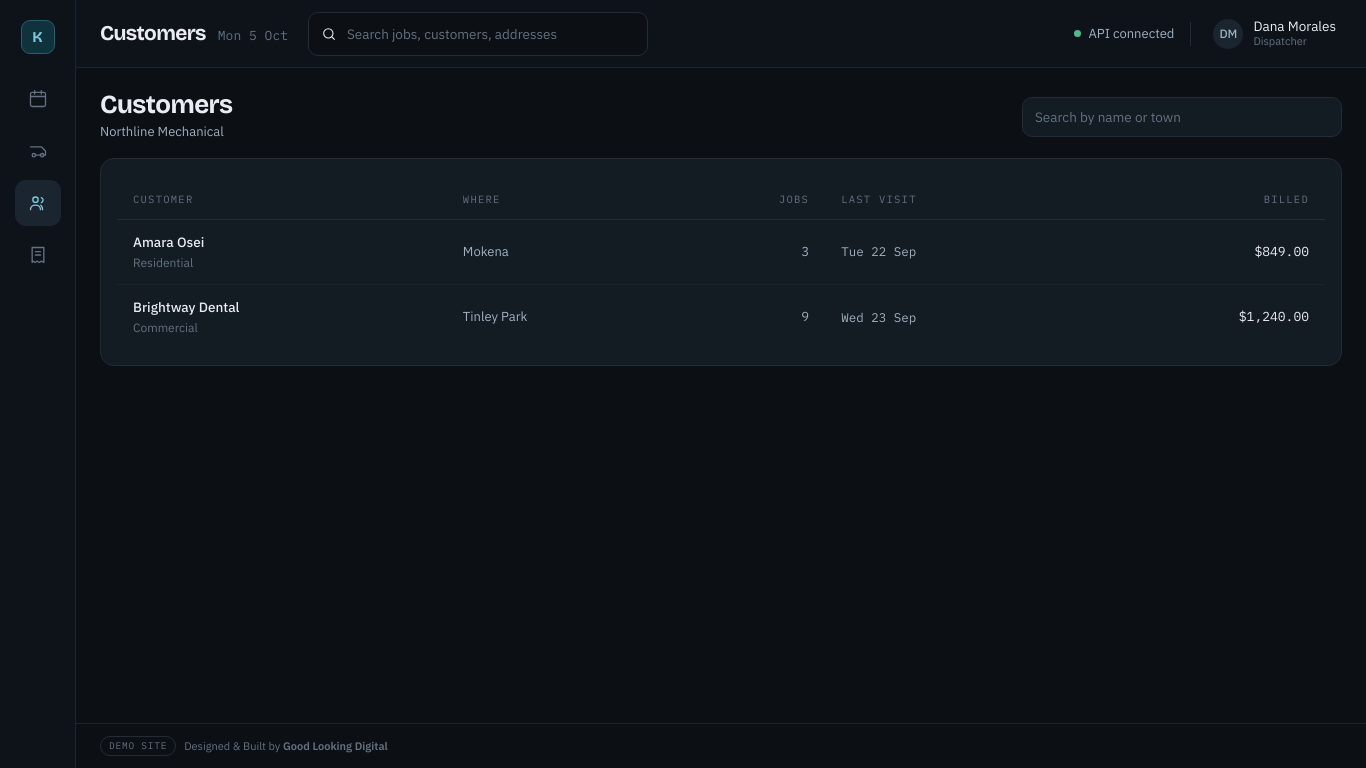
Test: the customer book › says so plainly when nobody matches
Expected: the text "Amara Osei" is shown, [133,232,204,250]
Type "zzz" into the search field named "Search customers" at (1182, 117), box [1022,97,1342,137]
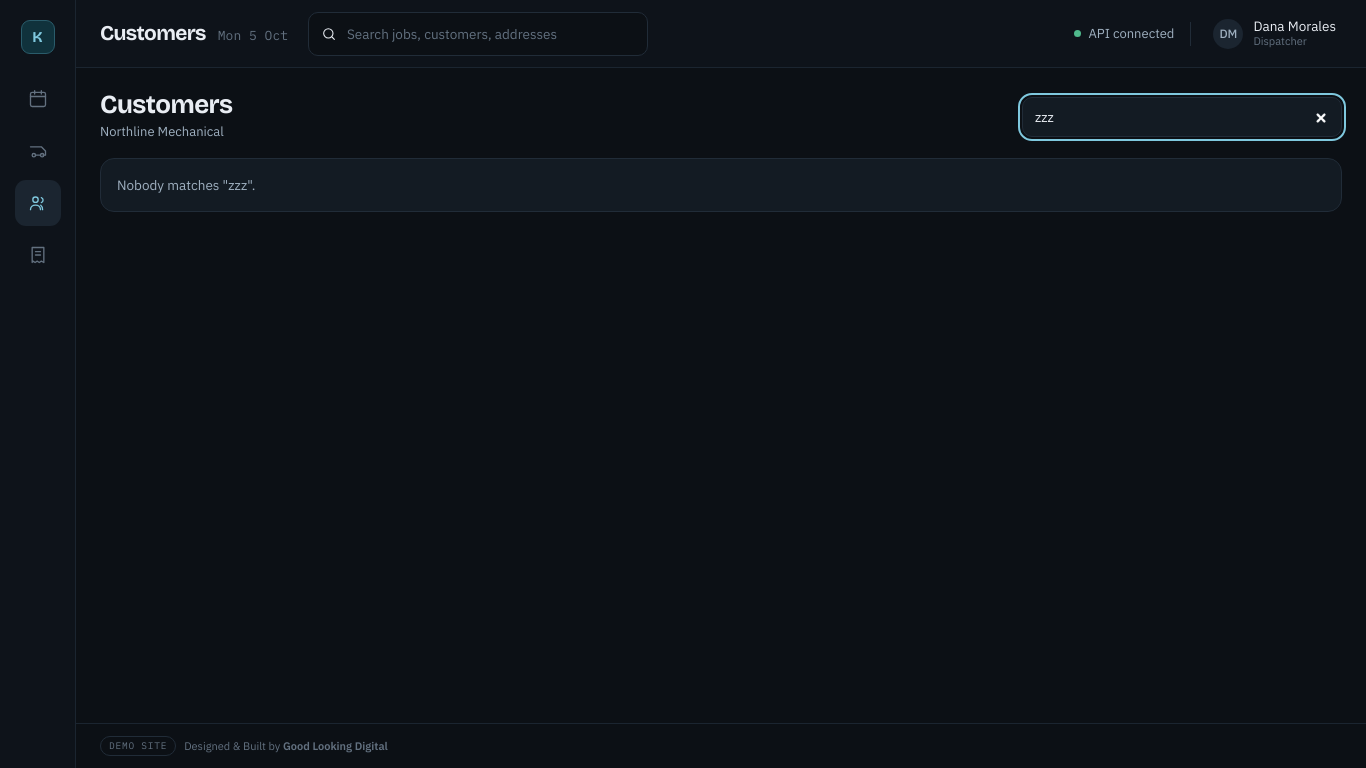
Result: the text "Nobody matches \"zzz\"." is shown at [117,176,255,194]
